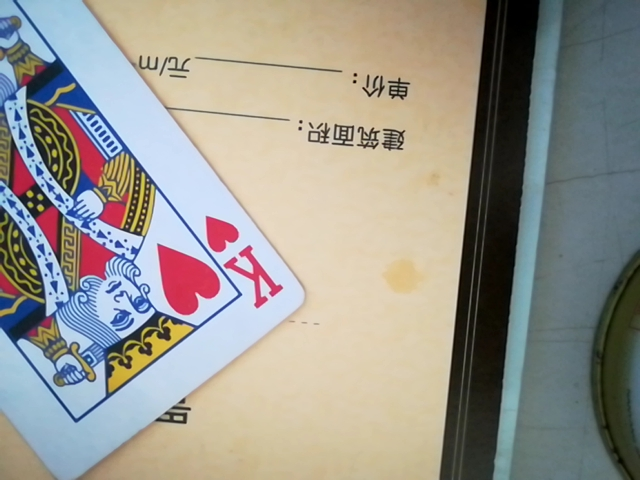hx k: (1, 3, 305, 480)
